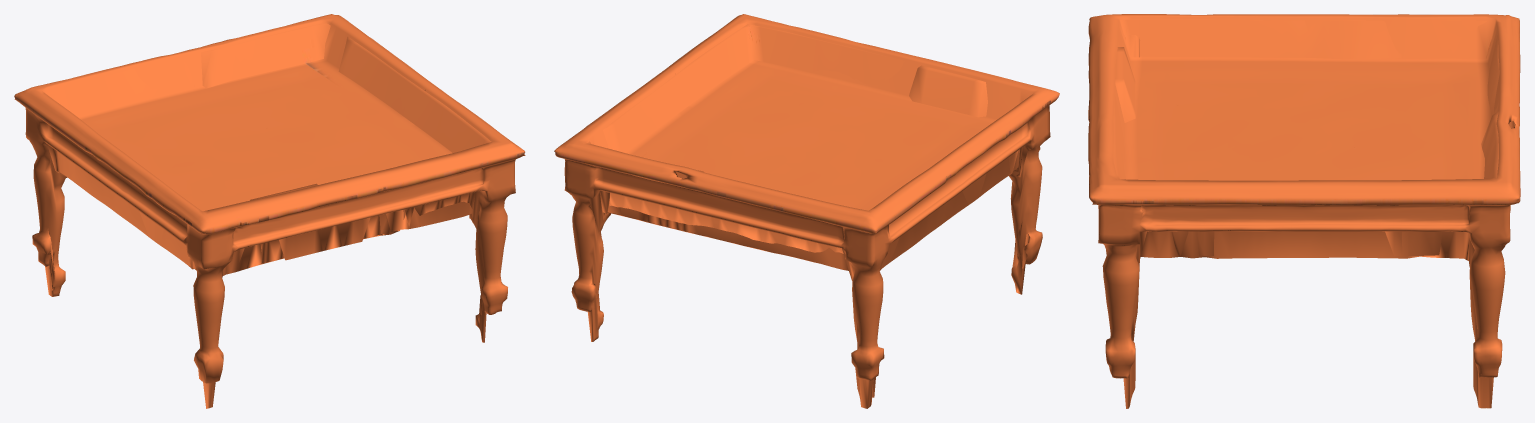
Rendered from table.glb.
3 renders of one model, left to right at view 1: azimuth 30°, elevation 25°; view 2: azimuth 150°, elevation 25°; view 3: azimuth 270°, elevation 25°, orthographic. The views are drawn at different scales.
Visible parts, largest first — view 1: Mesh_0.001; view 2: Mesh_0.001; view 3: Mesh_0.001.
Part boxes in pixels (x1,y1,x2,y2): Mesh_0.001: (14, 14, 525, 408); Mesh_0.001: (554, 14, 1059, 408); Mesh_0.001: (1088, 14, 1520, 408).
Bounding box in the file's own units: 20.02 × 11.93 × 20.05.
1 material, 1 textured.
